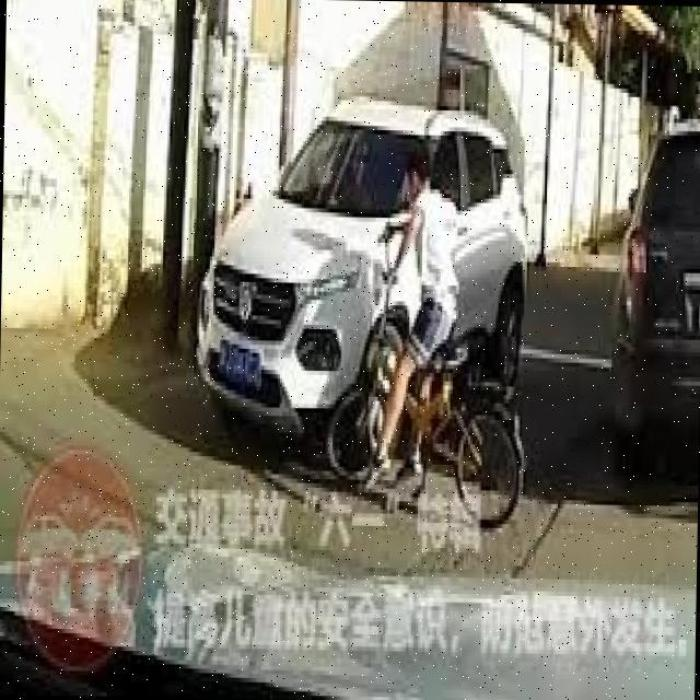Accident: (286, 195, 530, 536)
